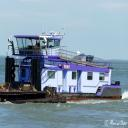tugboat: (6, 23, 125, 106)
